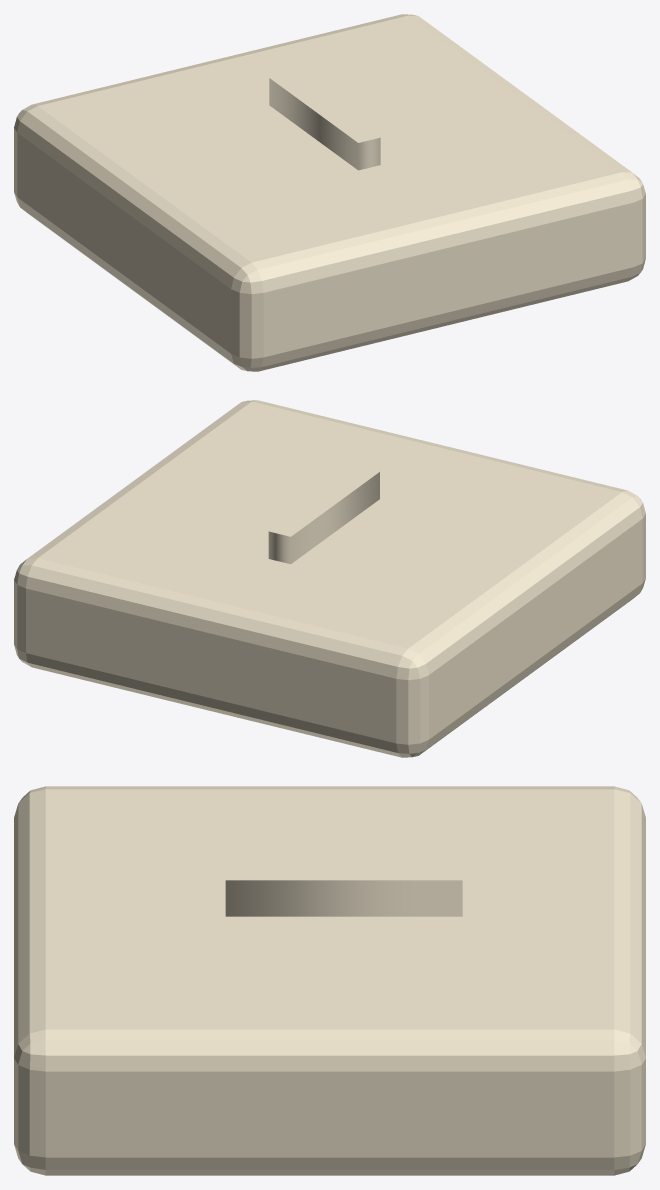
Rendered from Tile_1.fbx.
The picture shows the model from 3 angles, top to bottom: view 1: azimuth 30°, elevation 25°; view 2: azimuth 150°, elevation 25°; view 3: azimuth 270°, elevation 25°; orthographic projection. The views are drawn at different scales.
Visible parts, largest first — view 1: Tile_1; view 2: Tile_1; view 3: Tile_1.
Part boxes in pixels (<box>): Tile_1: <box>14,14,645,371</box>; Tile_1: <box>14,400,645,757</box>; Tile_1: <box>14,786,645,1175</box>.
Bounding box in the file's own units: 80 × 25.1 × 80.
